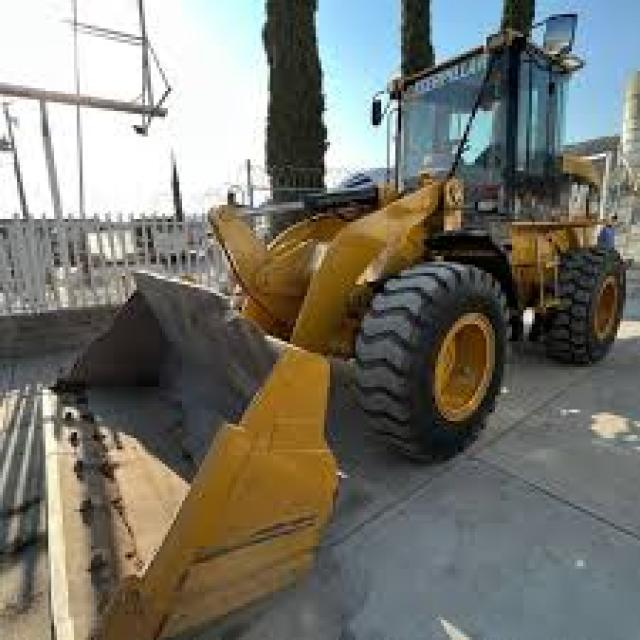buldozerpayloadergrader: (32, 21, 626, 640)
